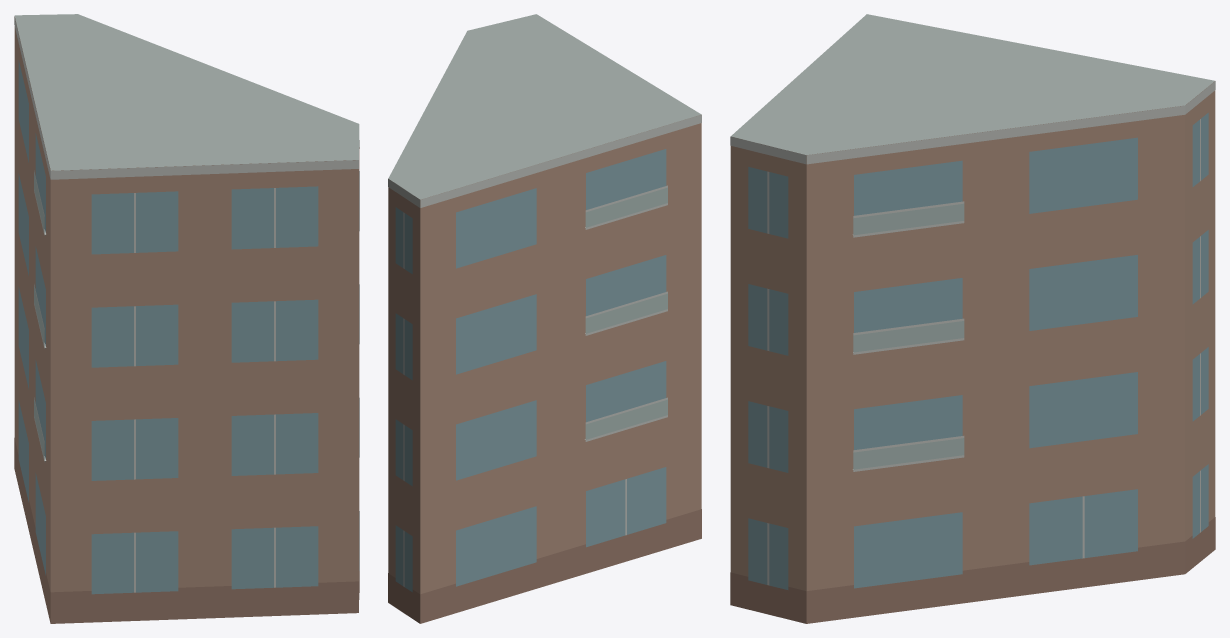
Rendered from survey-upis-33045688.glb.
The picture shows the model from 3 angles, left to right: view 1: azimuth 30°, elevation 25°; view 2: azimuth 150°, elevation 25°; view 3: azimuth 270°, elevation 25°; orthographic projection. The views are drawn at different scales.
Visible parts, largest first — view 1: survey-upis-33045688.tmp; view 2: survey-upis-33045688.tmp; view 3: survey-upis-33045688.tmp.
Boxes of the visible parts, left/top/right/bottom form: survey-upis-33045688.tmp: left=14, top=14, right=359, bottom=623; survey-upis-33045688.tmp: left=388, top=14, right=701, bottom=623; survey-upis-33045688.tmp: left=730, top=14, right=1215, bottom=623.
Size of the model in its own units: 7.95 by 12.3 by 11.54.
